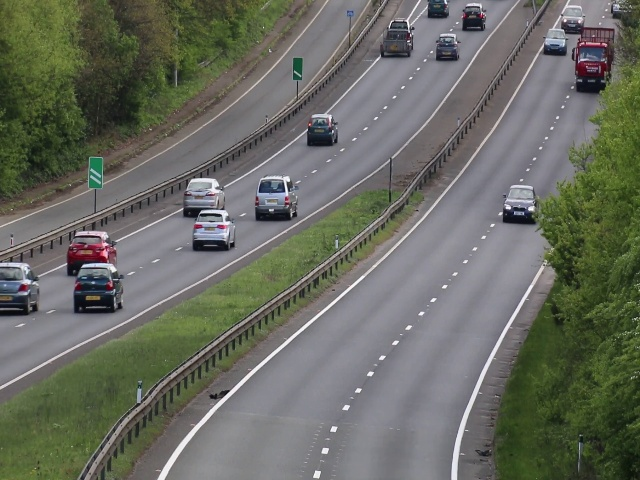car: (72, 263, 123, 312), (570, 38, 611, 94), (65, 228, 117, 271), (1, 263, 44, 314), (254, 174, 299, 220), (192, 209, 238, 252), (182, 177, 227, 214), (503, 180, 538, 225), (380, 19, 413, 58), (305, 112, 339, 145), (541, 26, 568, 54), (435, 31, 459, 60), (558, 6, 584, 30)
